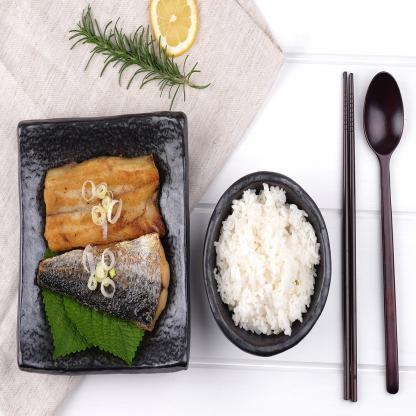Peixe: (34, 215, 184, 342), (38, 138, 173, 258)
